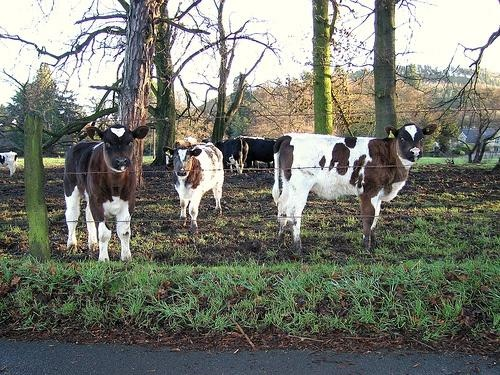cow: (271, 121, 439, 255), (59, 121, 153, 262), (162, 140, 228, 234)
